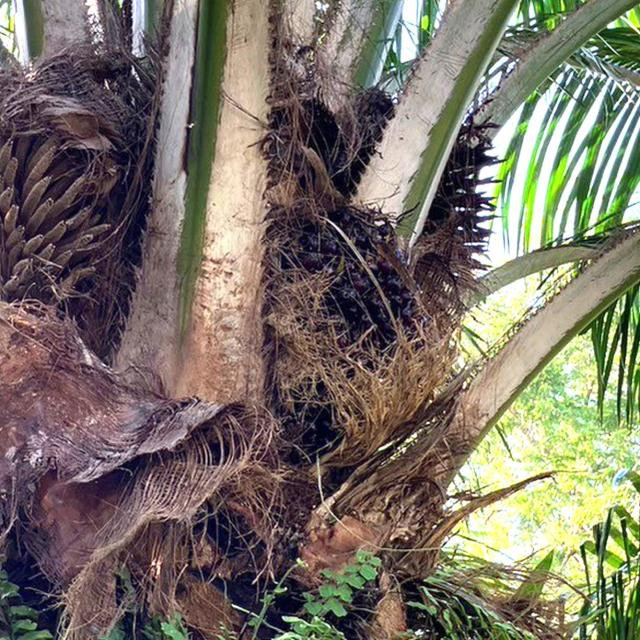almost: (230, 178, 442, 440)
